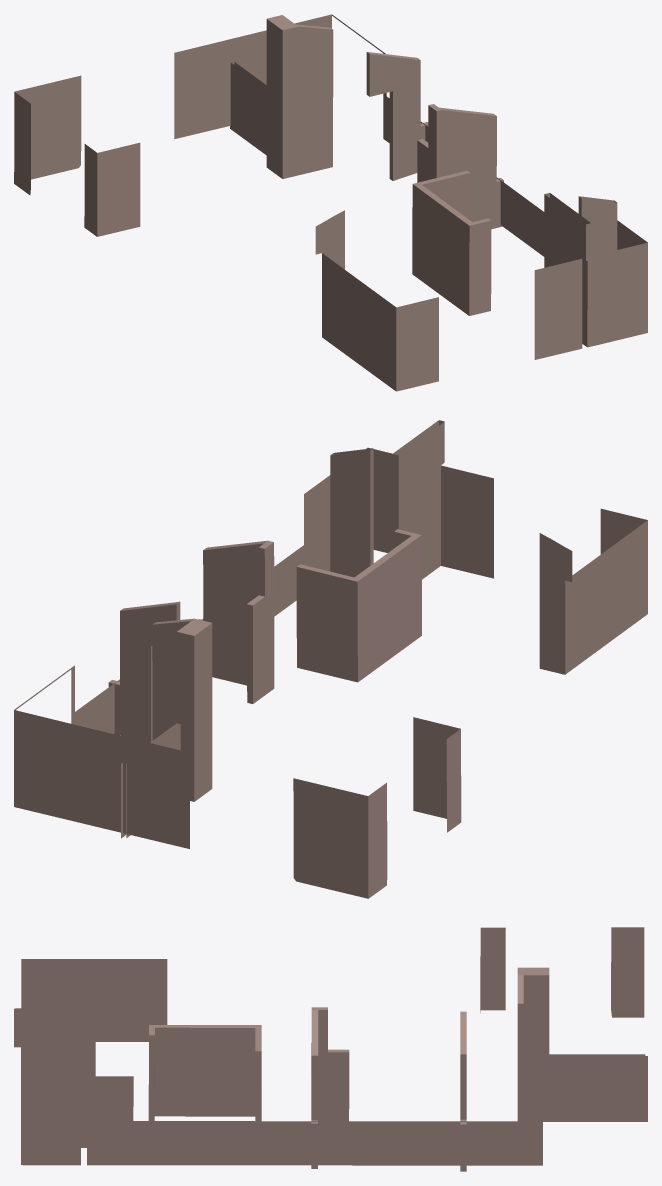
The model's file is pineBoards_walls.fbx.
3 renders of one model, top to bottom at view 1: azimuth 30°, elevation 25°; view 2: azimuth 150°, elevation 25°; view 3: azimuth 270°, elevation 25°, orthographic. The views are drawn at different scales.
Parts seen in each view (by area): view 1: pineBoard_walls; view 2: pineBoard_walls; view 3: pineBoard_walls.
Part boxes in pixels (bbox=[...]): pineBoard_walls: bbox=[14, 14, 647, 391]; pineBoard_walls: bbox=[14, 420, 647, 898]; pineBoard_walls: bbox=[14, 927, 647, 1171].
Size of the model in its own units: 812 by 362 by 1401.
